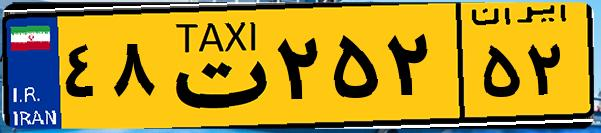2: (270, 28, 330, 110), (385, 28, 445, 110), (525, 38, 570, 115)
4: (57, 26, 110, 100)
5: (330, 28, 385, 110), (475, 38, 525, 113)
8: (110, 28, 158, 98)
ت: (158, 12, 270, 120)
